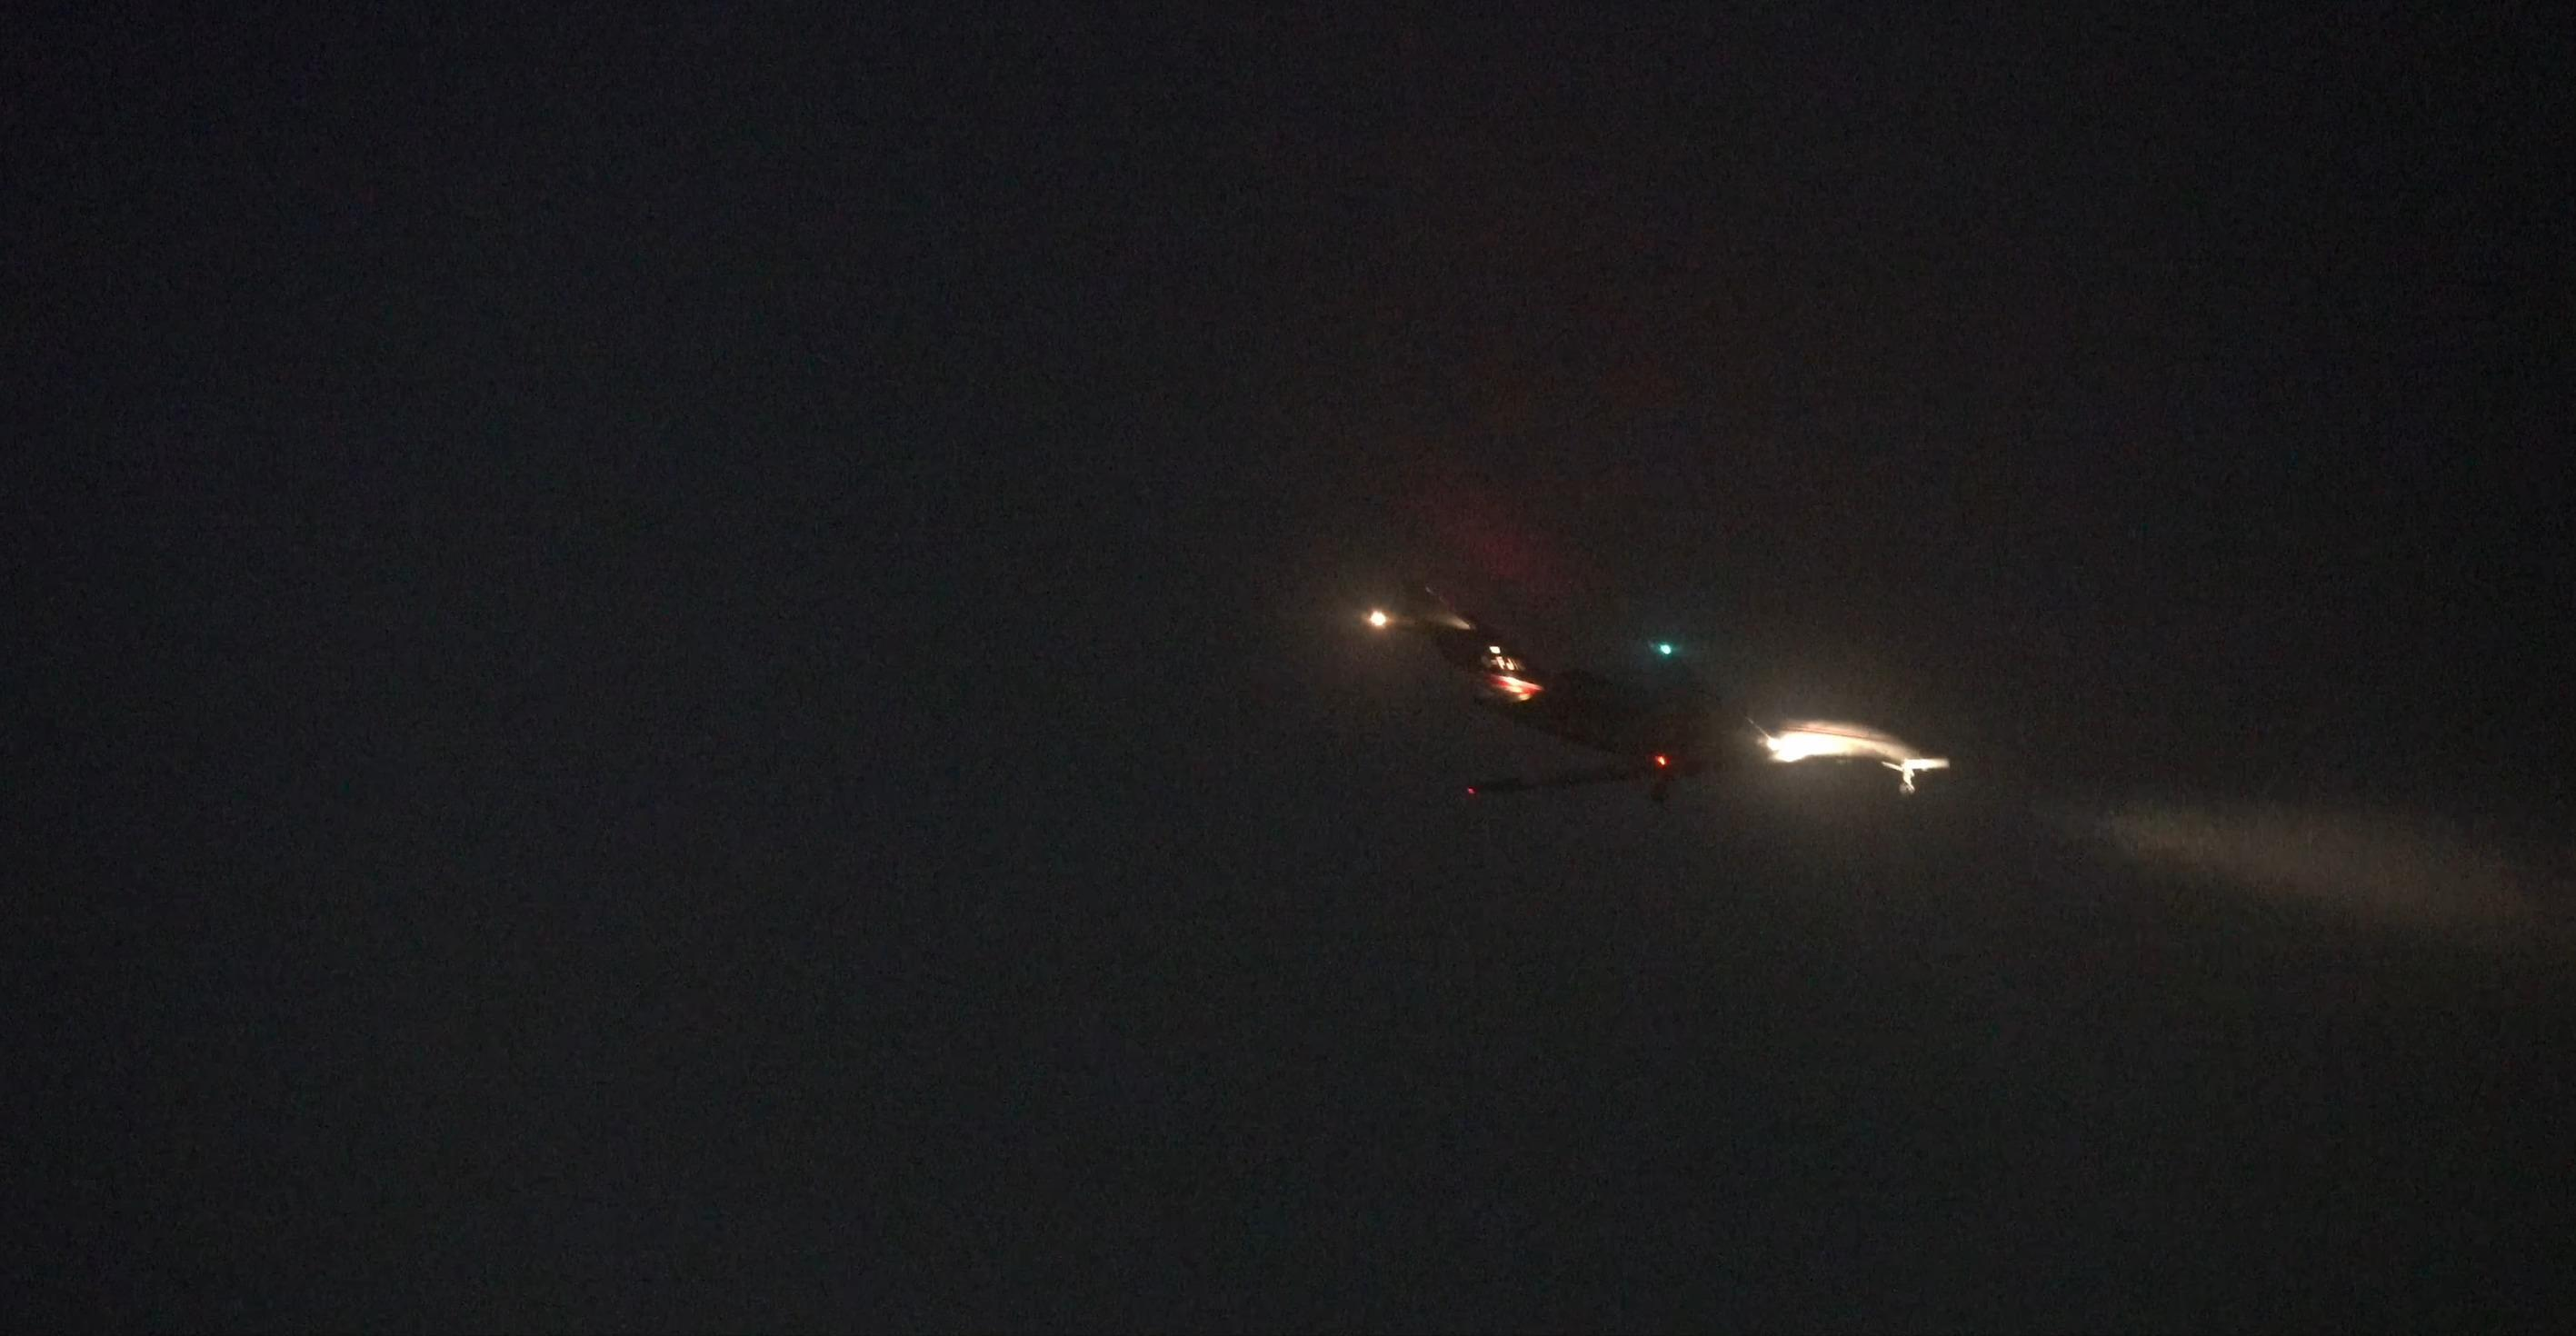Plane: (1416, 615, 1917, 821)
